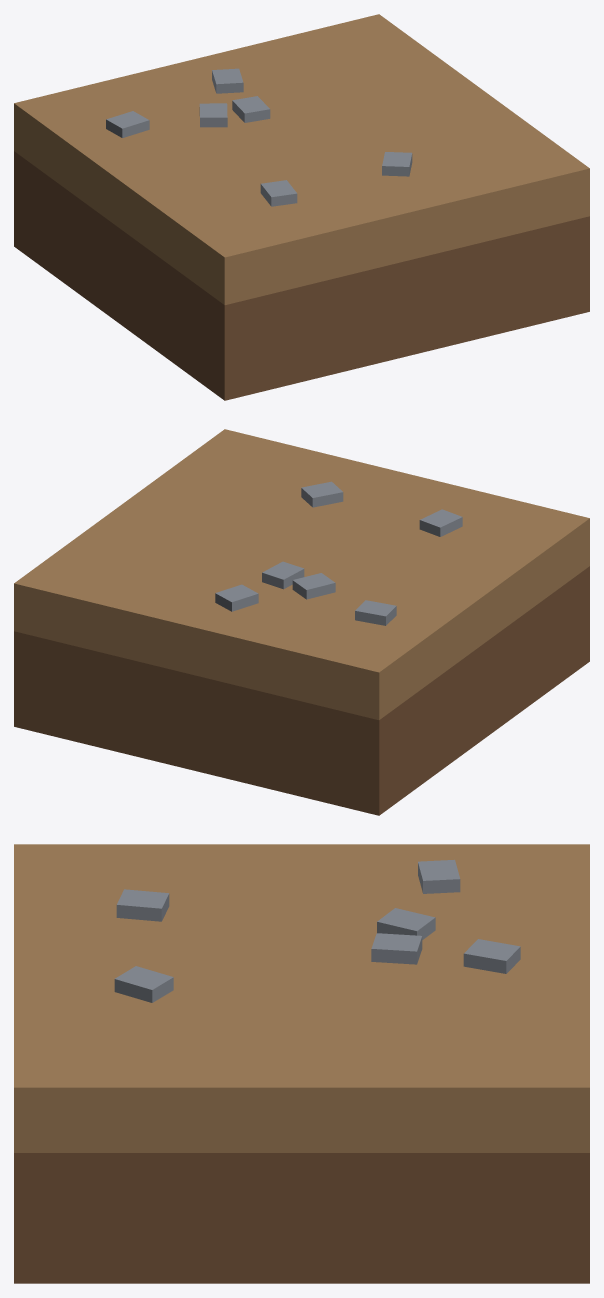
File: D03_tile_path.obj
3 views of the same model, one above another, from view 1: azimuth 30°, elevation 25°; view 2: azimuth 150°, elevation 25°; view 3: azimuth 270°, elevation 25° (orthographic). The views are drawn at different scales.
Visible parts, largest first — view 1: D03_tile_path; view 2: D03_tile_path; view 3: D03_tile_path.
Boxes of the visible parts, box(x1,y1,x2,y2) form: D03_tile_path: box(14, 14, 589, 400); D03_tile_path: box(14, 429, 589, 815); D03_tile_path: box(14, 844, 589, 1283).
Size of the model in its own units: 2 by 0.8 by 2.
